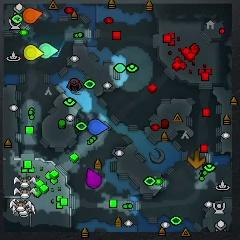p1: (88, 118, 108, 134)
p2: (38, 43, 59, 59)
p3: (86, 168, 102, 189)
p4: (23, 45, 43, 61)
p5: (22, 8, 43, 24)
x5: (187, 150, 206, 169)
